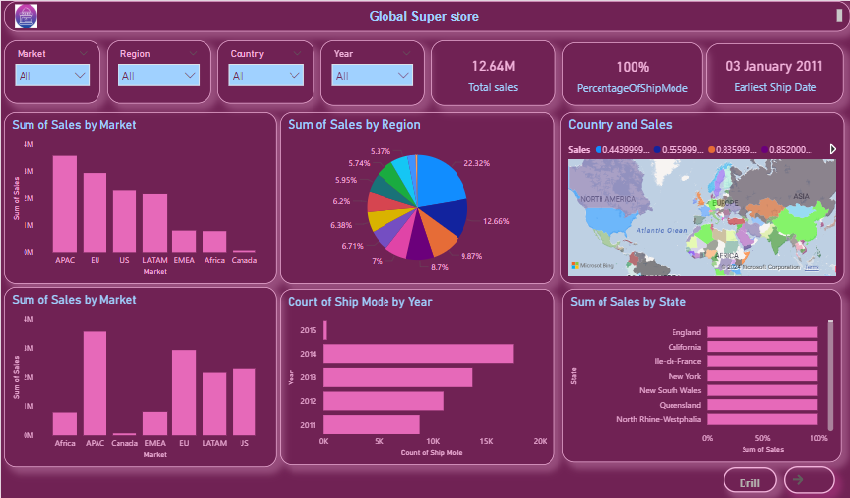

Layout of this report page (visuals, bound fields, positions):
{"tool":"powerbi","page":{"name":"Sales Report","canvas":[1280,720],"ordinal":0},"visuals":[{"type":"columnChart","fields":{"Category":["Orders.Market"],"Y":["Sum(Orders.Sales)"]},"box":[4.3,161.6,411,249.4],"z":0},{"type":"textbox","box":[4.3,0,1275.6,43.9],"z":1000},{"type":"image","box":[14.3,0,48.6,44.3],"z":2000},{"type":"pieChart","fields":{"Category":["Orders.Region"],"Y":["Sum(Orders.Sales)"]},"box":[420.9,161.6,415.3,249.4],"z":3000},{"type":"filledMap","fields":{"Category":["Orders.Country"],"Series":["Orders.Sales"]},"box":[843.3,161.6,428,249.4],"z":4000},{"type":"barChart","fields":{"Category":["Orders.Ship Date.Variation.Date Hierarchy.Year"],"Y":["CountNonNull(Orders.Ship Mode)"]},"box":[420.9,416.7,415.3,255.1],"z":5000},{"type":"hundredPercentStackedBarChart","fields":{"Category":["Orders.State"],"Y":["Sum(Orders.Sales)"]},"box":[846.1,418.1,420.9,250.9],"z":6000},{"type":"columnChart","fields":{"Category":["Orders.Region Hierarchy.Region","Orders.Region Hierarchy.State","Orders.Region Hierarchy.City","Orders.Region Hierarchy.Market"],"Y":["Sum(Orders.Sales)"]},"box":[4.3,413.9,411,260.8],"z":7000},{"type":"slicer","fields":{"Values":["Orders.Market"]},"box":[4.3,56.7,146,92.1],"z":8000},{"type":"slicer","fields":{"Values":["Orders.Region"]},"box":[160.2,56.7,155.9,92.1],"z":9000},{"type":"slicer","fields":{"Values":["Orders.Country"]},"box":[326,56.7,147.4,92.1],"z":10000},{"type":"card","fields":{"Values":["Orders.Total sales"]},"box":[647.7,56.7,188.5,95],"z":11000},{"type":"card","fields":{"Values":["Min(Orders.Ship Date)"]},"box":[1063,60.9,208.3,87.9],"z":12000},{"type":"card","fields":{"Values":["Orders.PercentageOfShipMode"]},"box":[846.1,59.5,211.2,92.1],"z":13000},{"type":"actionButton","box":[1179.2,673.2,78,39.7],"z":14000},{"type":"actionButton","box":[1088.5,674.6,80.8,36.9],"z":15000},{"type":"slicer","fields":{"Values":["Orders.Ship Date.Variation.Date Hierarchy.Year"]},"box":[483.3,56.7,155.9,95],"z":16000}]}

Visuals, with their boxes on the page's 1280x720 design canvas (x1, y1, x2, y2). These are canvas units, not pixel positions in the 850x498 screenshot, which may show the page scaled, cropped or inside an application window:
columnChart - Orders.Market x Sum(Orders.Sales): locate(4, 162, 415, 411)
textbox: locate(4, 0, 1280, 44)
image: locate(14, 0, 63, 44)
pieChart - Orders.Region x Sum(Orders.Sales): locate(421, 162, 836, 411)
filledMap - Orders.Country x Orders.Sales: locate(843, 162, 1271, 411)
barChart - Orders.Ship Date.Variation.Date Hierarchy.Year x CountNonNull(Orders.Ship Mode): locate(421, 417, 836, 672)
hundredPercentStackedBarChart - Orders.State x Sum(Orders.Sales): locate(846, 418, 1267, 669)
columnChart - Orders.Region Hierarchy.Region x Orders.Region Hierarchy.State: locate(4, 414, 415, 675)
slicer - Orders.Market: locate(4, 57, 150, 149)
slicer - Orders.Region: locate(160, 57, 316, 149)
slicer - Orders.Country: locate(326, 57, 473, 149)
card - Orders.Total sales: locate(648, 57, 836, 152)
card - Min(Orders.Ship Date): locate(1063, 61, 1271, 149)
card - Orders.PercentageOfShipMode: locate(846, 60, 1057, 152)
actionButton: locate(1179, 673, 1257, 713)
actionButton: locate(1088, 675, 1169, 712)
slicer - Orders.Ship Date.Variation.Date Hierarchy.Year: locate(483, 57, 639, 152)
